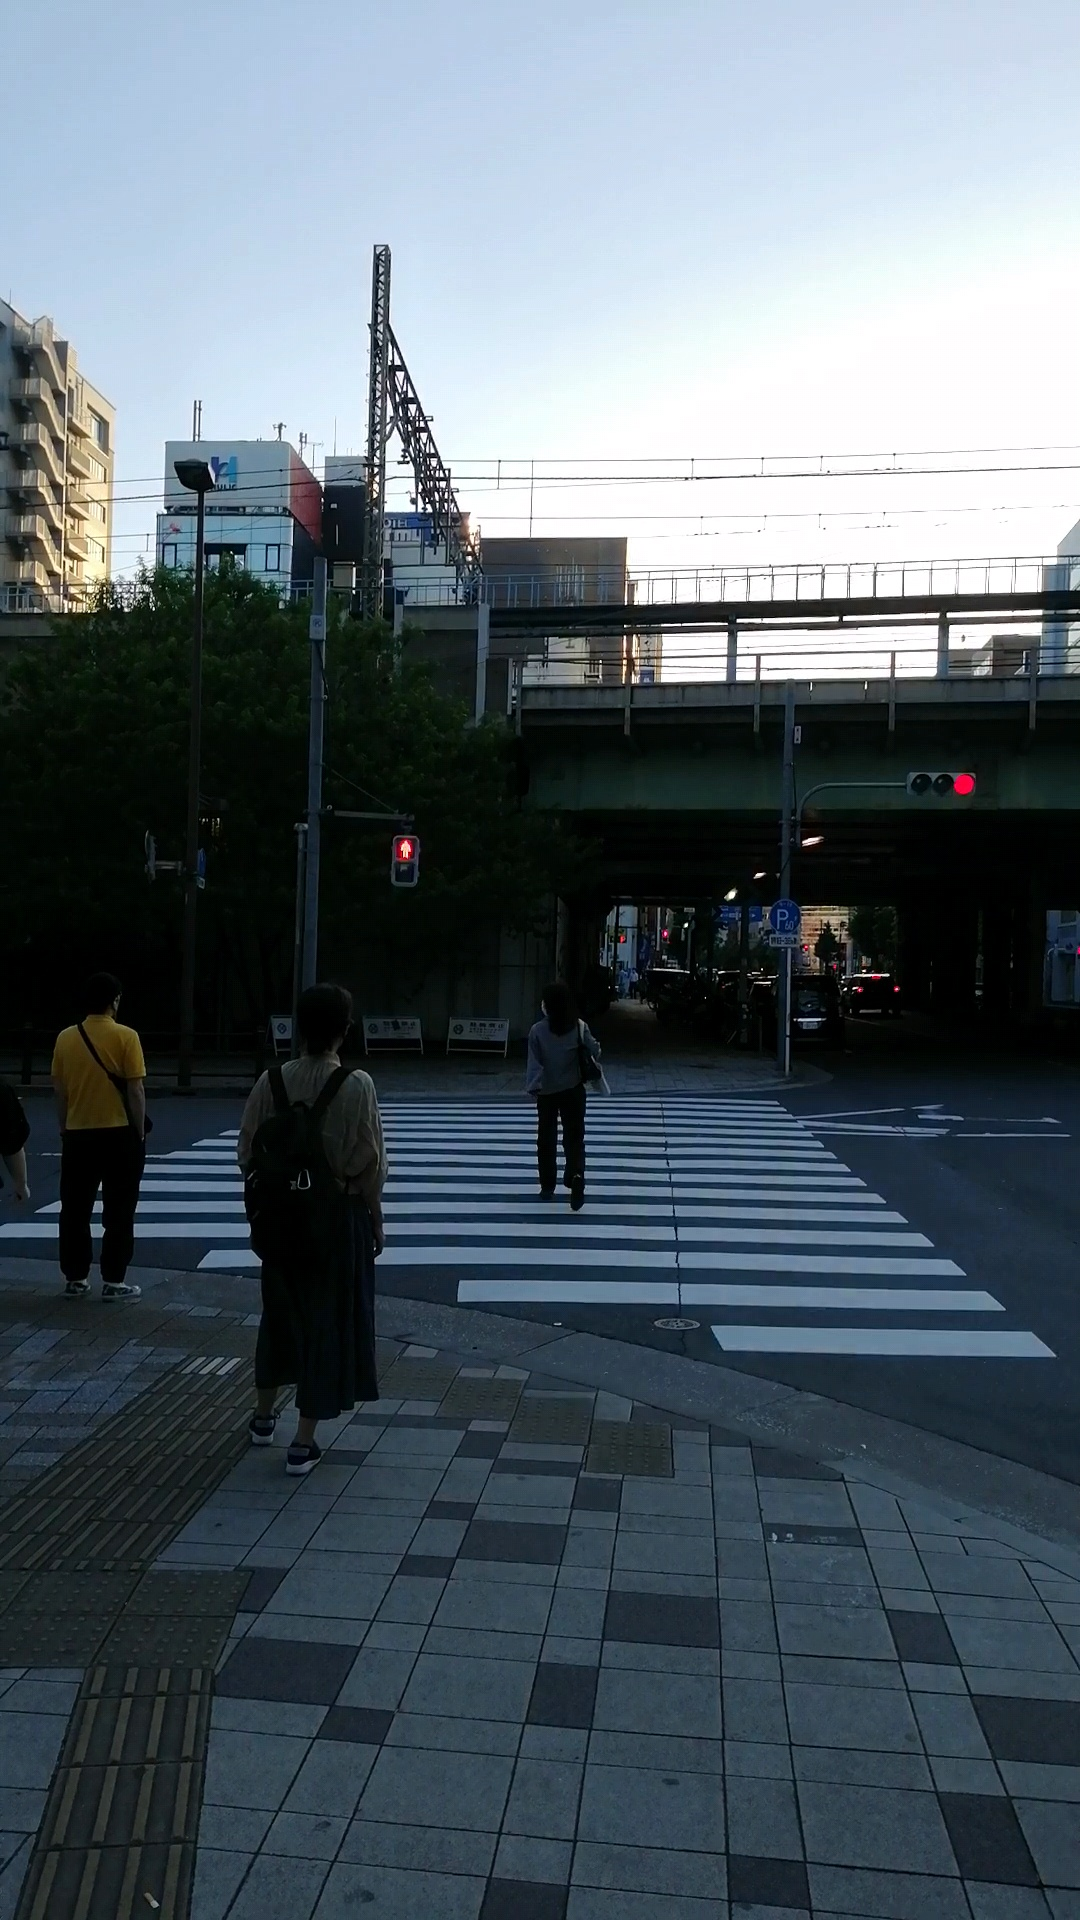red: (389, 833, 421, 889)
